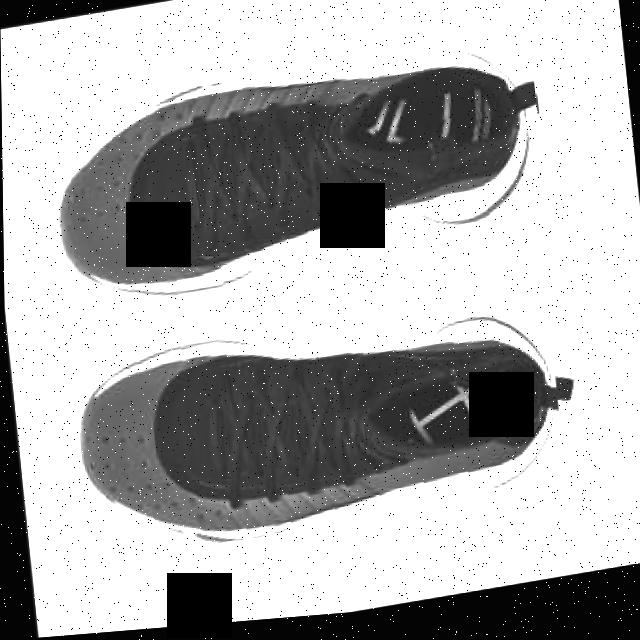shoe: (38, 36, 550, 327), (66, 286, 565, 567)
